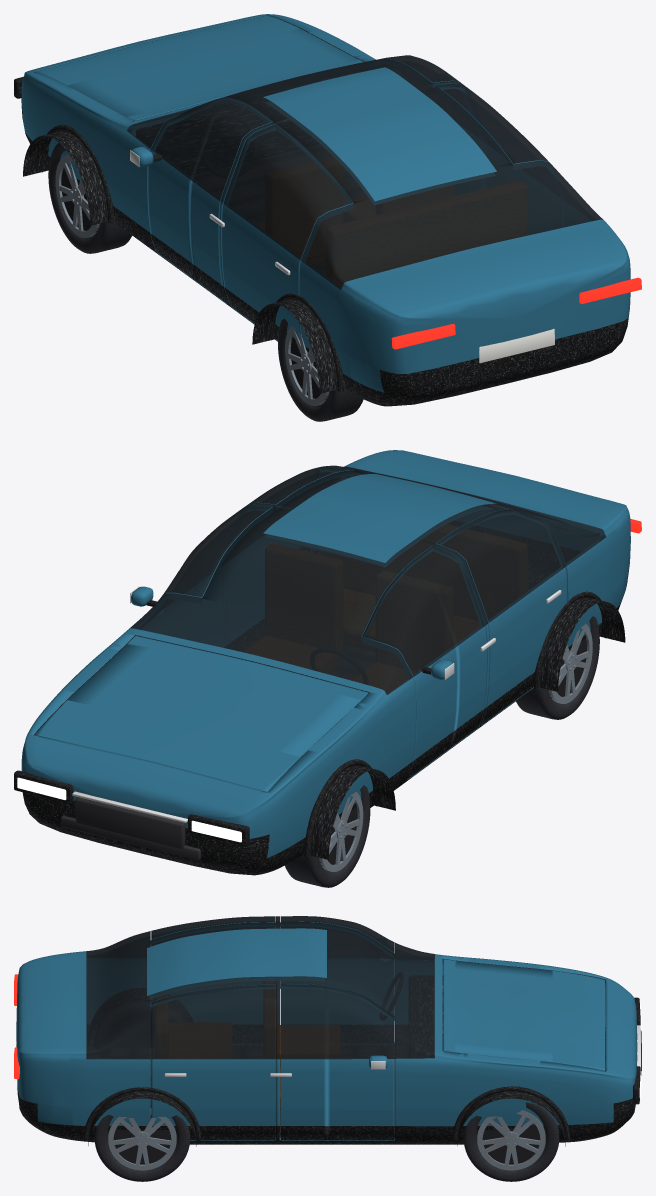
Rendered from berline.glb.
3 views of the same model, one above another, from view 1: azimuth 30°, elevation 25°; view 2: azimuth 150°, elevation 25°; view 3: azimuth 270°, elevation 25° (orthographic). The views are drawn at different scales.
Visible parts, largest first — view 1: caisse, capot, porte_GAR, porte_GAV, dossier_ar, tableau_de_bord, dossier_av_-1, porte_DAR, plancher, doublure_arche_GAV, doublure_arche_GAR, porte_DAV (+11 smaller); view 2: caisse, capot, porte_GAV, porte_GAR, dossier_ar, dossier_av_1, dossier_av_-1, porte_DAV, porte_DAR, calandre, doublure_arche_GAV, doublure_arche_GAR (+13 smaller); view 3: caisse, porte_DAR, porte_DAV, capot, porte_GAV, porte_GAR, jante_DAV, jante_DAR, pneu_GAR, pneu_DAV, banquette_ar, pneu_DAR (+10 smaller).
Part boxes in pixels (x1,y1,x2,y2): caisse: (21, 14, 630, 406); capot: (34, 15, 363, 125); porte_GAR: (221, 124, 353, 344); porte_GAV: (147, 97, 272, 302); dossier_ar: (326, 181, 526, 286); tableau_de_bord: (136, 98, 318, 174); dossier_av_-1: (265, 157, 342, 258); porte_DAR: (436, 83, 562, 234); plancher: (191, 145, 366, 272); doublure_arche_GAV: (23, 131, 115, 225); doublure_arche_GAR: (252, 299, 346, 393); porte_DAV: (375, 55, 481, 195); caisse: (21, 450, 630, 875); capot: (35, 635, 368, 792); porte_GAV: (362, 546, 487, 778); porte_GAR: (436, 509, 567, 724); dossier_ar: (326, 524, 526, 620); dossier_av_1: (265, 544, 342, 650); dossier_av_-1: (376, 571, 453, 671); porte_DAV: (153, 504, 272, 647); porte_DAR: (227, 466, 352, 651); calandre: (75, 797, 185, 849); doublure_arche_GAV: (300, 765, 395, 859); doublure_arche_GAR: (532, 597, 625, 691); caisse: (16, 916, 637, 1144); porte_DAR: (151, 985, 275, 1139); porte_DAV: (281, 984, 394, 1139); capot: (443, 959, 605, 1070); porte_GAV: (281, 916, 394, 1042); porte_GAR: (151, 916, 275, 1042); jante_DAV: (477, 1110, 545, 1170); jante_DAR: (108, 1108, 176, 1170); pneu_GAR: (95, 1002, 185, 1048); pneu_DAV: (463, 1102, 559, 1181); banquette_ar: (169, 1023, 231, 1057); pneu_DAR: (94, 1099, 190, 1181).
Bounding box in the file's own units: 2.17 × 1.47 × 4.65.
Materials: 13 (5 with a texture image).
